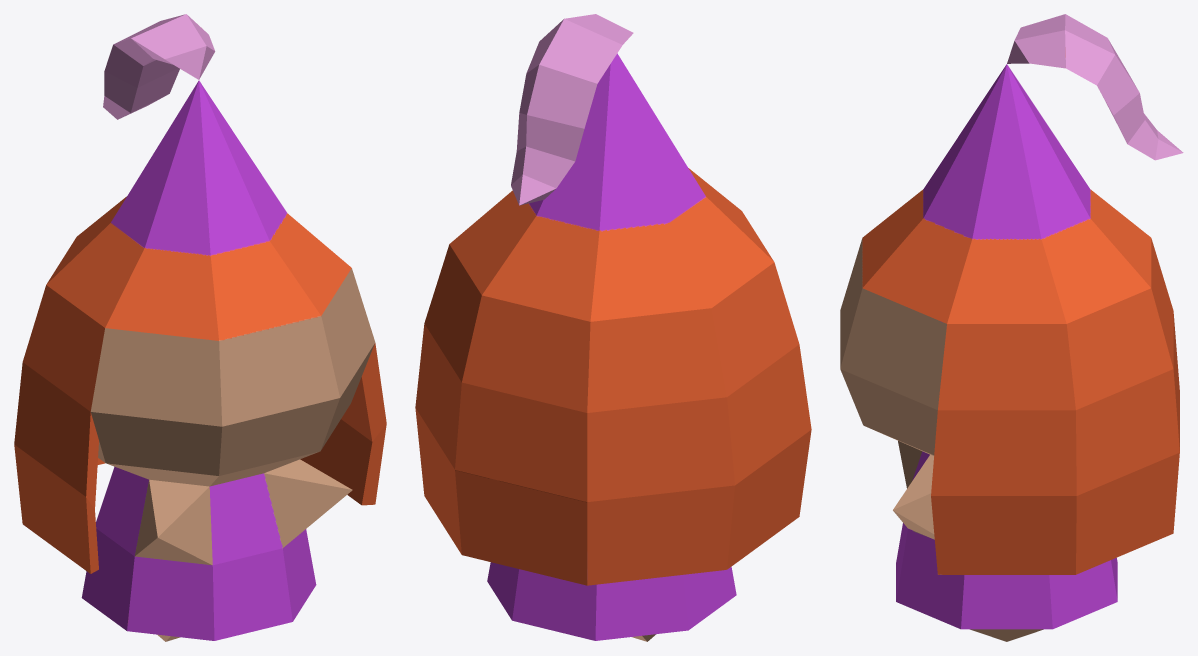
Rendered from Princess.fbx.
3 views of the same model, side by side, from view 1: azimuth 30°, elevation 25°; view 2: azimuth 150°, elevation 25°; view 3: azimuth 270°, elevation 25° (orthographic). The views are drawn at different scales.
Visible parts, largest first — view 1: Princess F; view 2: Princess F; view 3: Princess F.
Boxes of the visible parts, box(x1,y1,x2,y2) form: Princess F: box(14, 14, 386, 641); Princess F: box(415, 14, 811, 641); Princess F: box(840, 14, 1183, 641).
Size of the model in its own units: 225 by 425 by 219.
